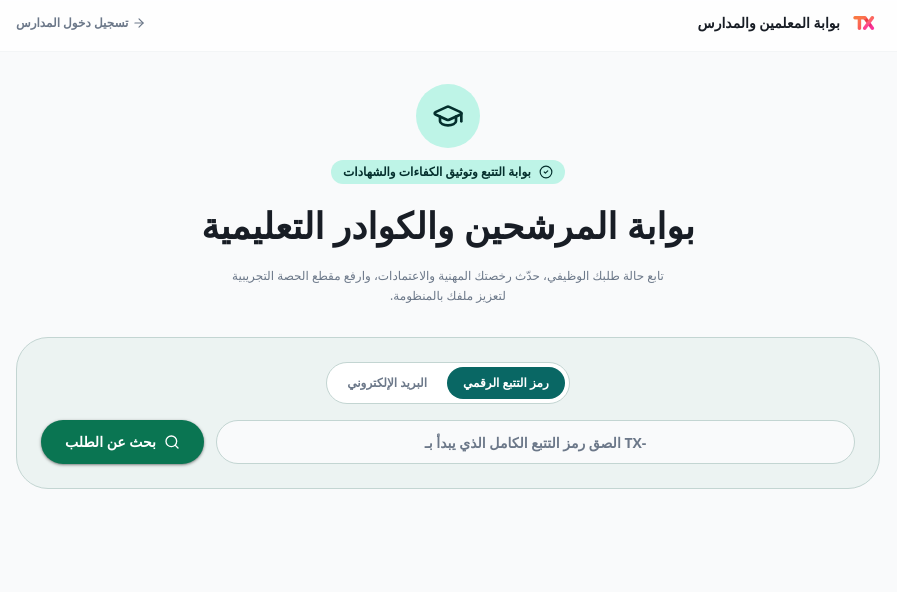
candidate tracking feedback › rejects incomplete codes without a network request
Type "TX-9842" into the field labelled "رمز التتبع" at (536, 442), box x1=216 y1=420 x2=855 y2=464
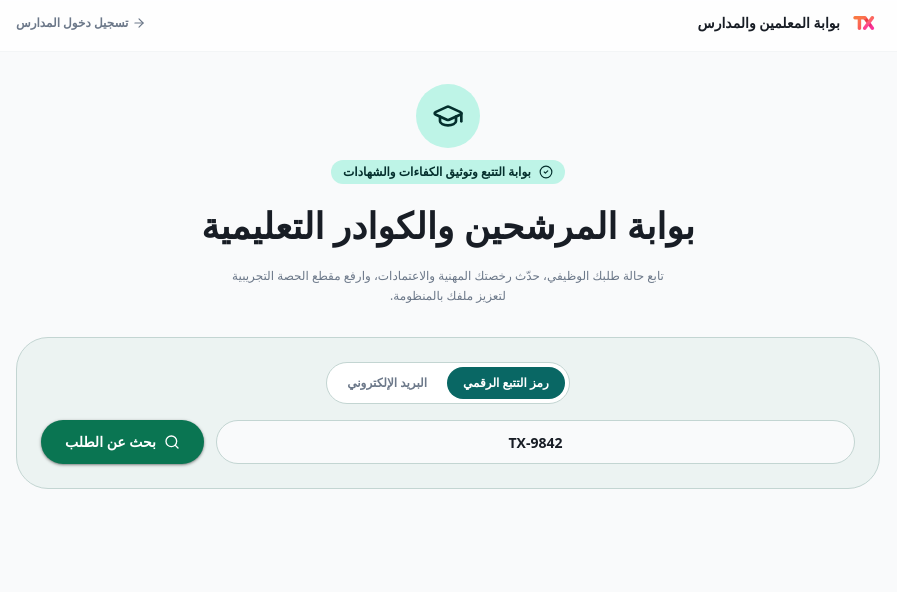
Click the button "بحث عن الطلب" at (122, 442), box x1=41 y1=420 x2=204 y2=464
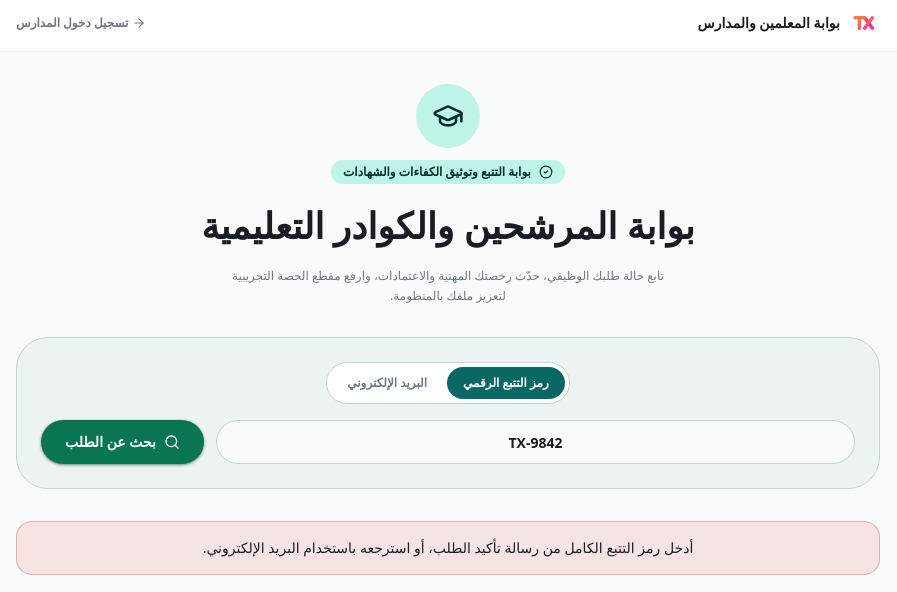
Expected: the message shows "رمز التتبع الكامل", x1=203 y1=538 x2=693 y2=557
